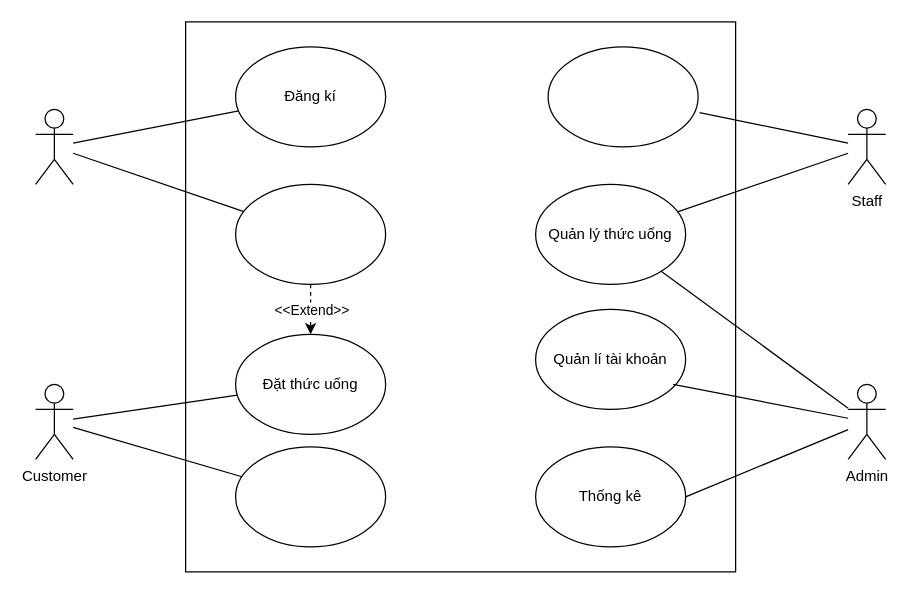
Some shapes in this 909 by 594 pixel diagram are drawn without their labels. The shapes that lost their labels are listed below. From the top down, each one's centre as x and y in pixels, then its label:
At point (622, 96): "Quản lí đơn hàng".
At point (53, 146): "Guest".
At point (310, 233): "Tra cứu thức uống".
At point (310, 496): "Thao tác với tài khoản".
